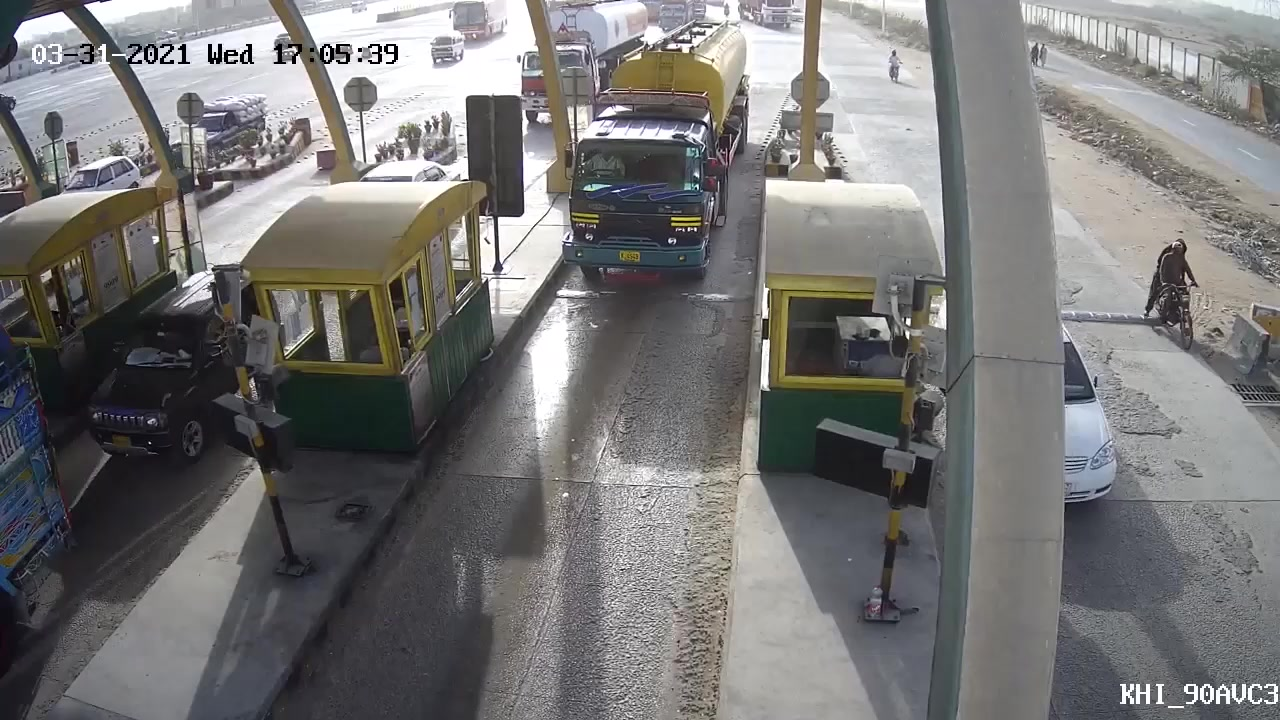F6: (555, 16, 761, 285)
